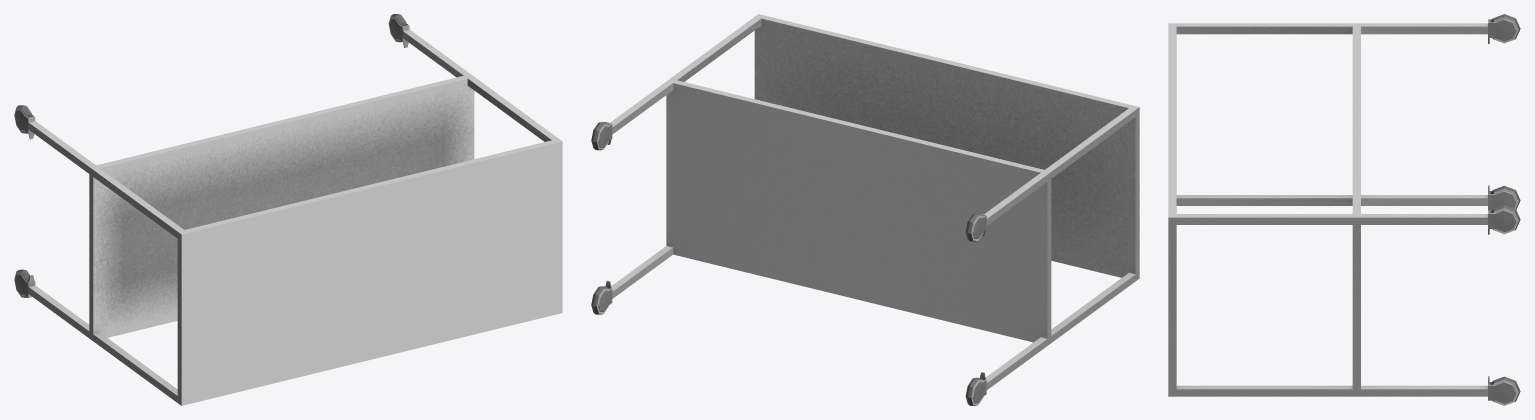
The model's file is SmallTrolley.obj.
3 renders of one model, left to right at view 1: azimuth 30°, elevation 25°; view 2: azimuth 150°, elevation 25°; view 3: azimuth 270°, elevation 25°, orthographic. The views are drawn at different scales.
Visible parts, largest first — view 1: trolley_Cube.001; view 2: trolley_Cube.001; view 3: trolley_Cube.001.
Part boxes in pixels (box(x1,y1,x2,y2)): trolley_Cube.001: box(14, 14, 562, 405); trolley_Cube.001: box(591, 14, 1139, 405); trolley_Cube.001: box(1168, 14, 1520, 405).
Size of the model in its own units: 1.07 by 0.5167 by 0.82.
1 material, 1 textured.
